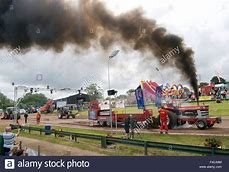smoke: (1, 1, 200, 104)
